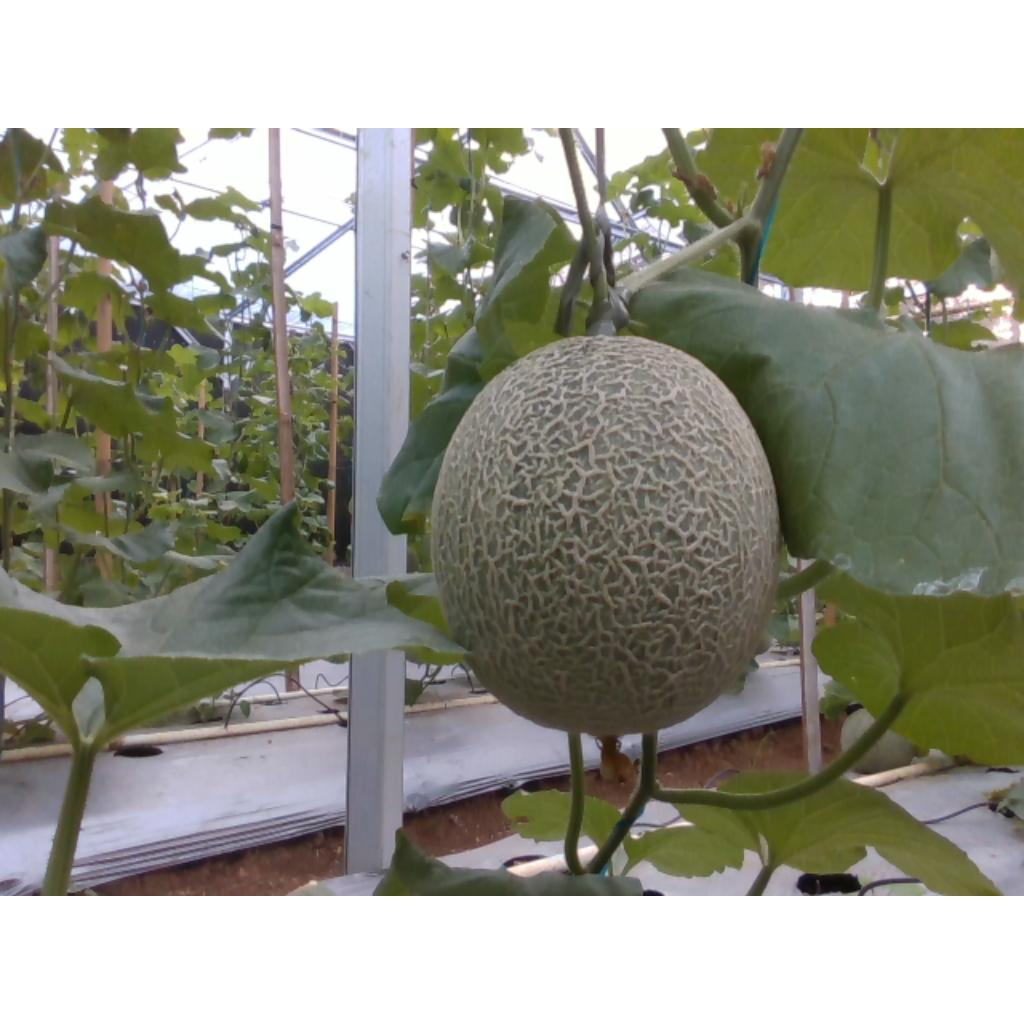melon: (432, 336, 782, 737)
